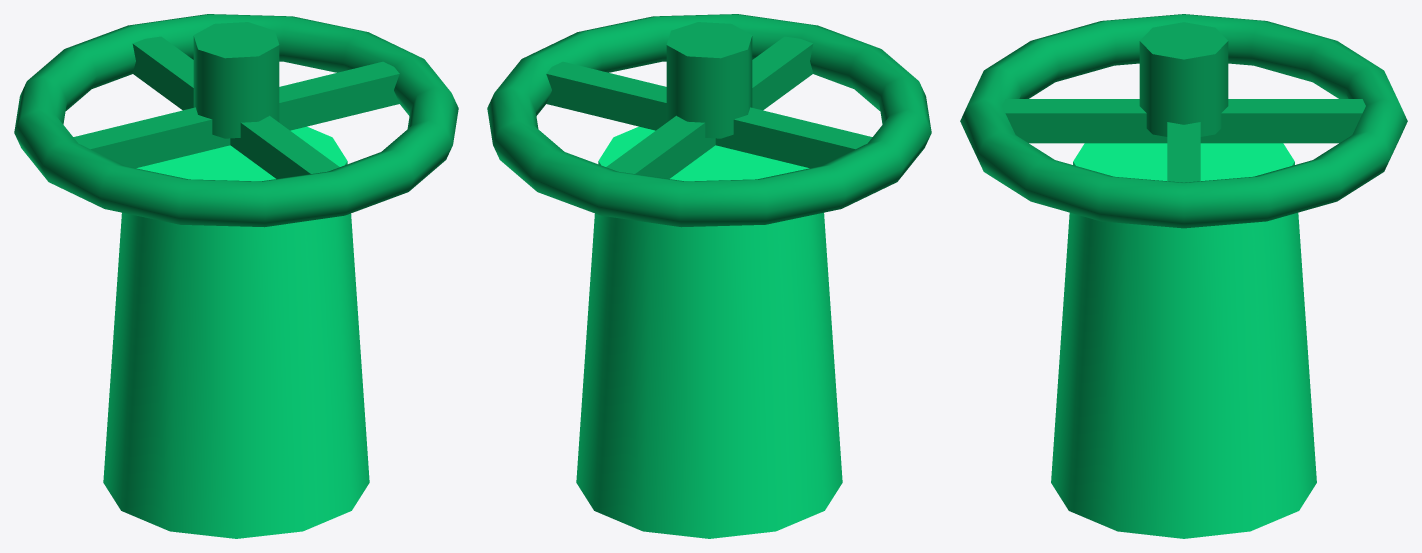
Rendered from valvulas_vapor.glb.
3 renders of one model, left to right at view 1: azimuth 30°, elevation 25°; view 2: azimuth 150°, elevation 25°; view 3: azimuth 270°, elevation 25°, orthographic.
Parts seen in each view (by area): view 1: Body, Detail; view 2: Body, Detail; view 3: Body, Detail.
Boxes of the visible parts, x1=… form: Body: x1=103, y1=126, x2=369, y2=538; Detail: x1=14, y1=14, x2=458, y2=227; Body: x1=576, y1=126, x2=842, y2=538; Detail: x1=487, y1=14, x2=931, y2=227; Body: x1=1051, y1=143, x2=1316, y2=538; Detail: x1=960, y1=14, x2=1407, y2=228.
Bounding box in the file's own units: 0.202 × 0.22 × 0.202.
